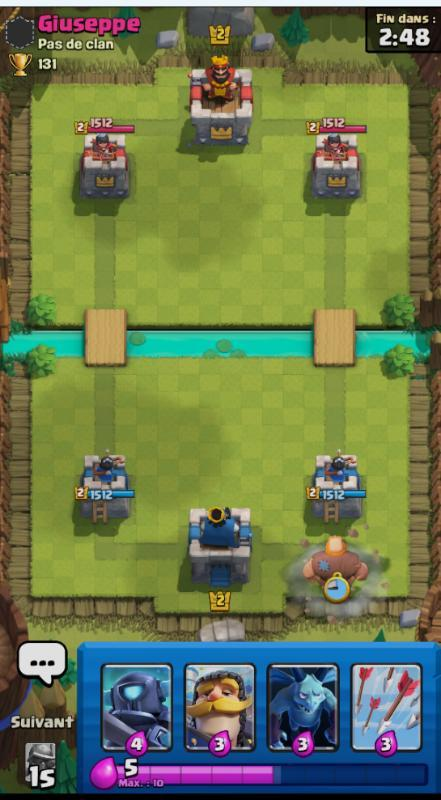player_giant: (298, 532, 371, 590)
